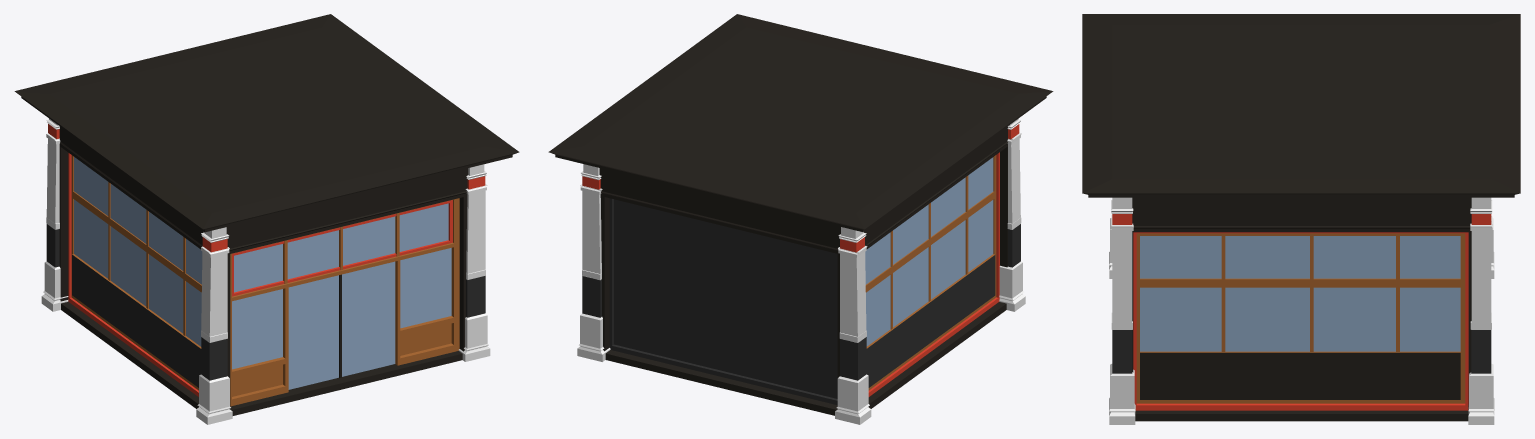
File: bakkerijKwekkeboomTEXTURED.fbx
3 renders of one model, left to right at view 1: azimuth 30°, elevation 25°; view 2: azimuth 150°, elevation 25°; view 3: azimuth 270°, elevation 25°, orthographic. The views are drawn at different scales.
Visible parts, largest first — view 1: Cube, Plane.008, Plane.016, Plane.010, Plane.011, Plane.004, Plane.009, Plane.014, Plane.006, Plane.005; view 2: Cube, Plane.013, Plane.016, Plane.004, Plane.003, Plane.010, Plane.014, Plane.007, Plane.006; view 3: Cube, Plane.015, Plane.011, Plane.003, Plane.012, Plane.017.
Part boxes in pixels (x1,y1,x2,y2): Cube: (14, 14, 519, 415); Plane.008: (230, 198, 459, 406); Plane.016: (71, 155, 202, 390); Plane.010: (196, 227, 232, 424); Plane.011: (458, 164, 490, 361); Plane.004: (41, 118, 68, 311); Plane.009: (232, 200, 452, 296); Plane.014: (68, 153, 198, 396); Plane.006: (60, 128, 203, 246); Plane.005: (229, 191, 466, 250); Cube: (548, 14, 1053, 415); Plane.013: (609, 198, 837, 405); Plane.016: (865, 155, 996, 390); Plane.004: (835, 227, 871, 424); Plane.003: (577, 164, 610, 361); Plane.010: (999, 118, 1025, 311); Plane.014: (868, 152, 999, 396); Plane.007: (601, 177, 839, 250); Plane.006: (864, 127, 1007, 245); Cube: (1082, 14, 1520, 421); Plane.015: (1136, 233, 1465, 403); Plane.011: (1109, 197, 1135, 424); Plane.003: (1468, 197, 1494, 424); Plane.012: (1133, 232, 1468, 410); Plane.017: (1133, 210, 1470, 228).
Size of the model in its own units: 1002 by 634 by 1035.
